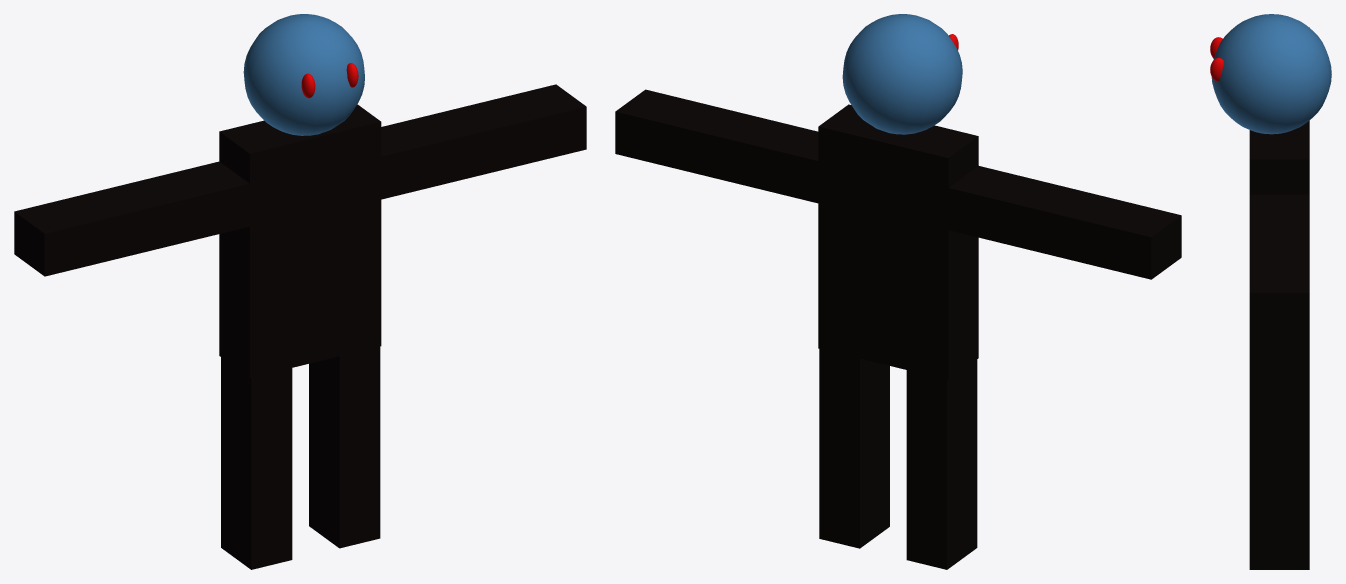
File: enemy3.fbx
3 renders of one model, left to right at view 1: azimuth 30°, elevation 25°; view 2: azimuth 150°, elevation 25°; view 3: azimuth 270°, elevation 25°, orthographic.
Visible parts, largest first — view 1: pasted__pasted__pCube1 (×3), pCube1, pasted__pCube1, pSphere1; view 2: pasted__pasted__pCube1 (×3), pCube1, pasted__pCube1, pSphere1; view 3: pasted__pCube1, pSphere1, pasted__pasted__pCube1, pCube1, pasted__pSphere2.
Part boxes in pixels (bbox=[...]): pasted__pasted__pCube1 (×3): bbox=[14, 84, 586, 569]; pCube1: bbox=[219, 104, 381, 377]; pasted__pCube1: bbox=[309, 316, 380, 548]; pSphere1: bbox=[243, 14, 364, 135]; pasted__pasted__pCube1 (×3): bbox=[615, 89, 1181, 569]; pCube1: bbox=[818, 104, 978, 379]; pasted__pCube1: bbox=[819, 317, 889, 548]; pSphere1: bbox=[842, 14, 962, 134]; pasted__pCube1: bbox=[1249, 381, 1309, 569]; pSphere1: bbox=[1211, 14, 1331, 134]; pasted__pasted__pCube1: bbox=[1249, 194, 1309, 335]; pCube1: bbox=[1249, 120, 1309, 380]; pasted__pSphere2: bbox=[1210, 58, 1223, 81].
Bounding box in the file's own units: 10.25 × 9.52 × 2.02.
